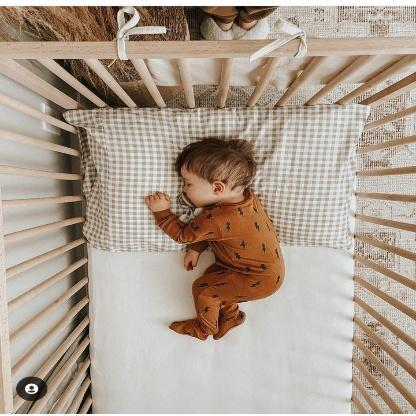baby: (144, 137, 286, 341)
